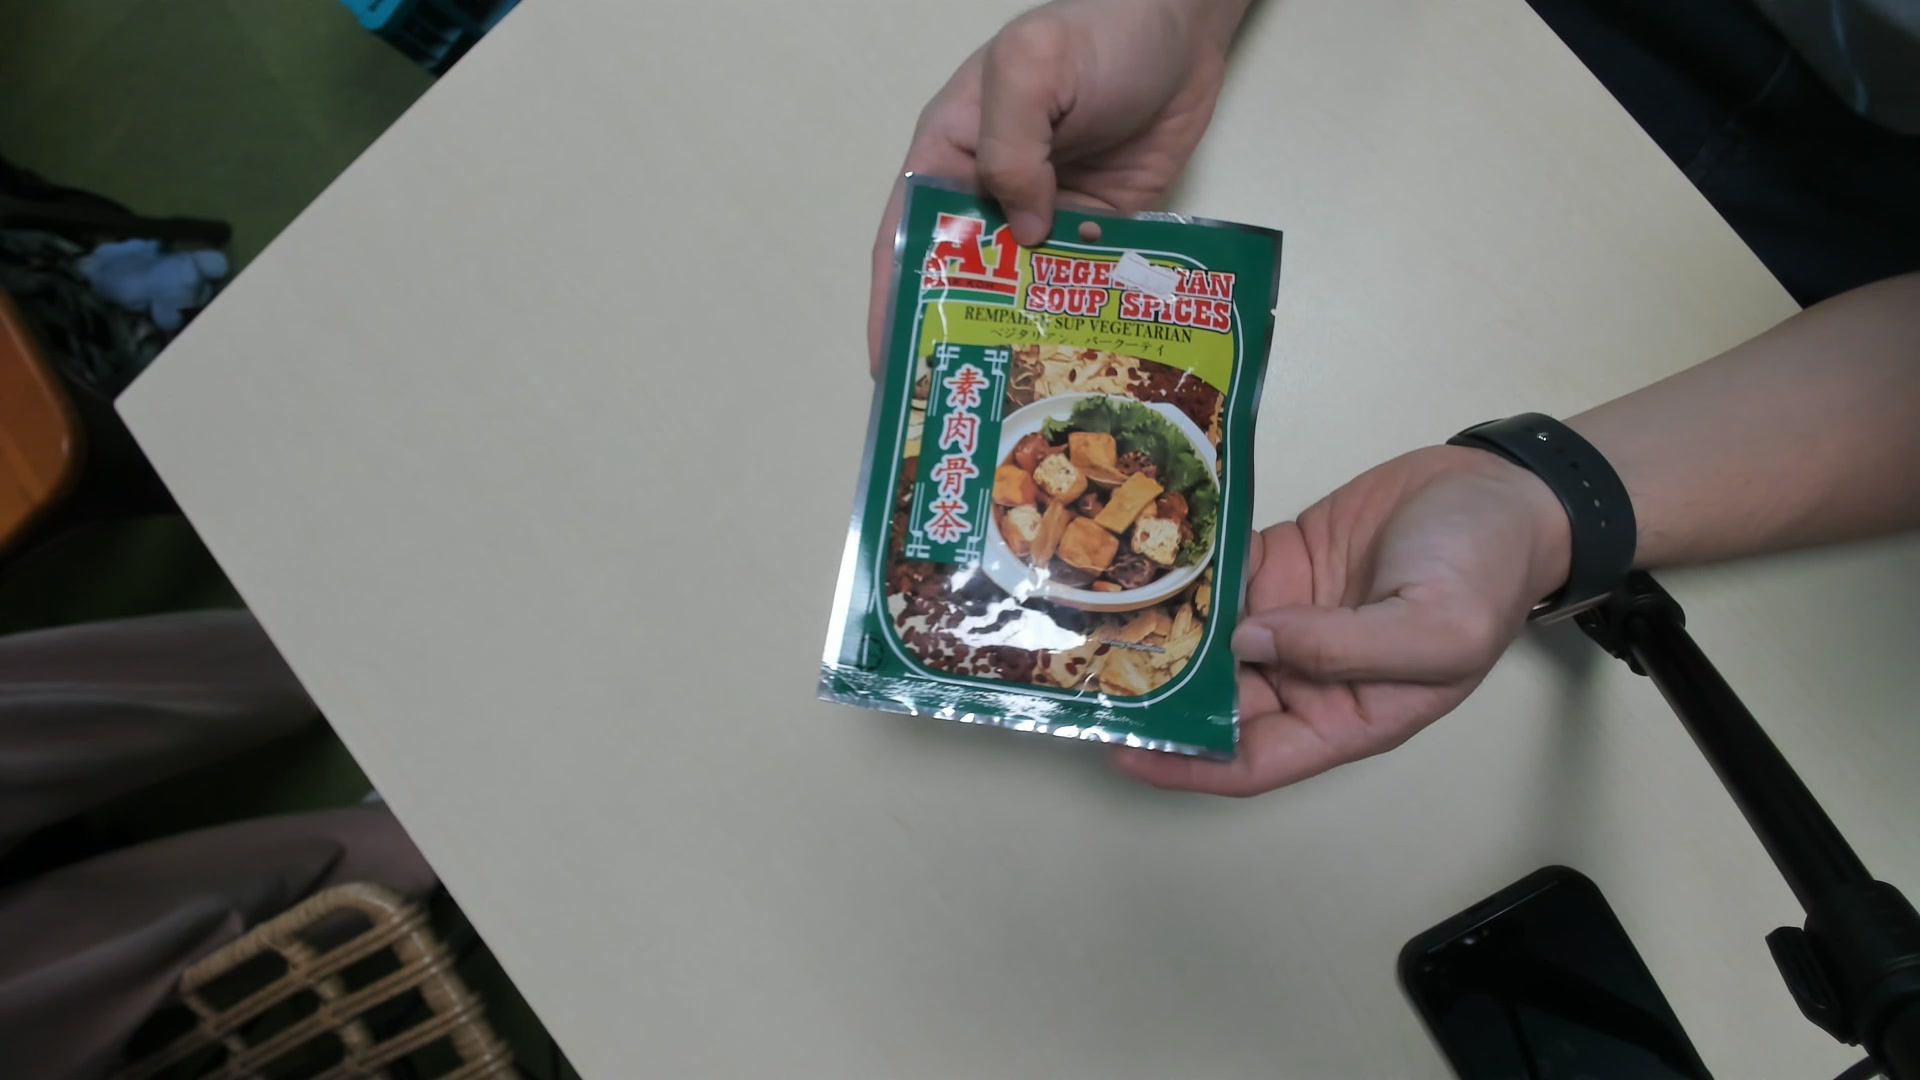OtherSauceDressing_0-99g_NonHalal_NonHealthy: (831, 171, 1284, 757)
